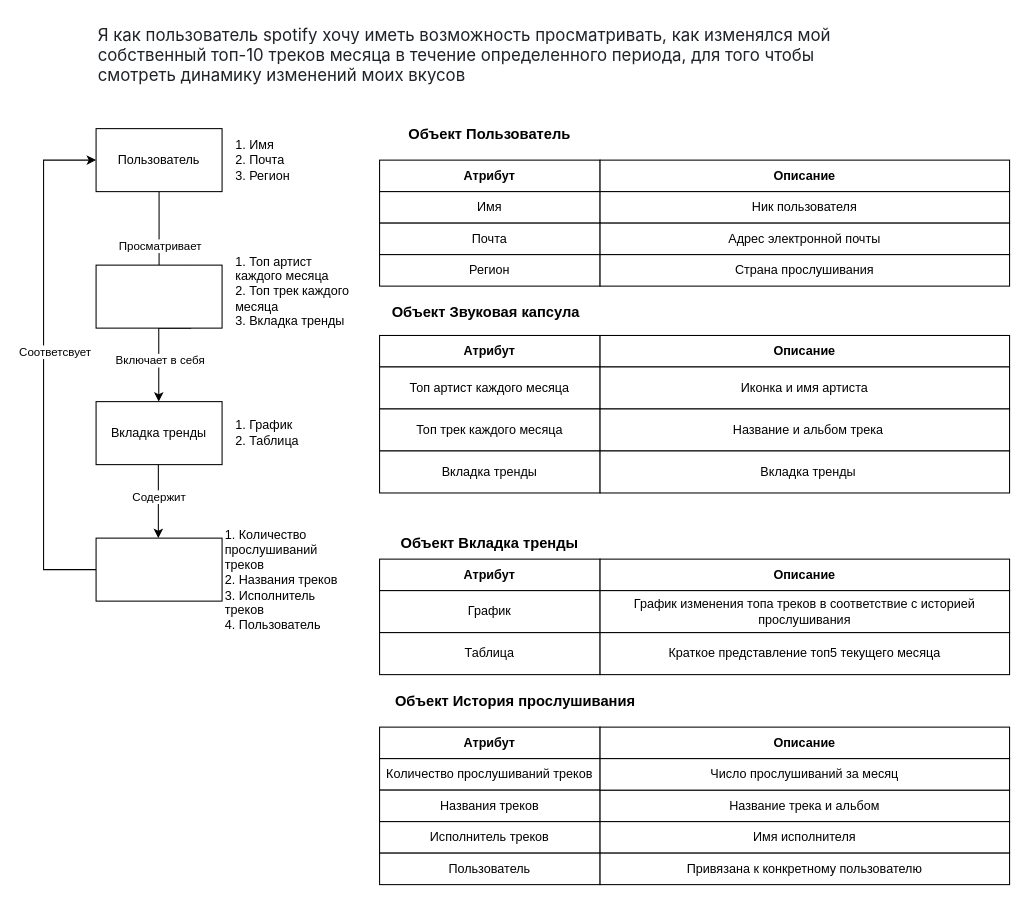
This 1028x903 diagram has some shape labels left out. The shapes that lost their labels are listed below. From the top down, each one's centre as x and y in pixels, then its label:
At (158,296): "Звуковая капсула".
At (158,569): "История прослушиваний".
